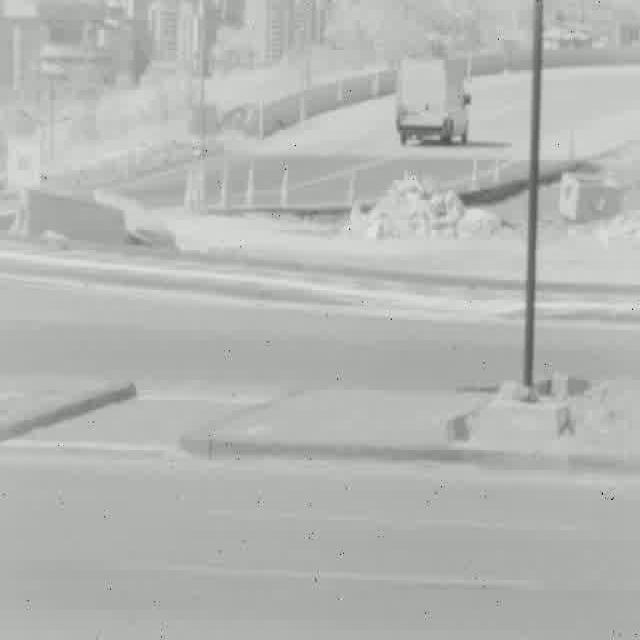Car: (395, 57, 468, 144)
